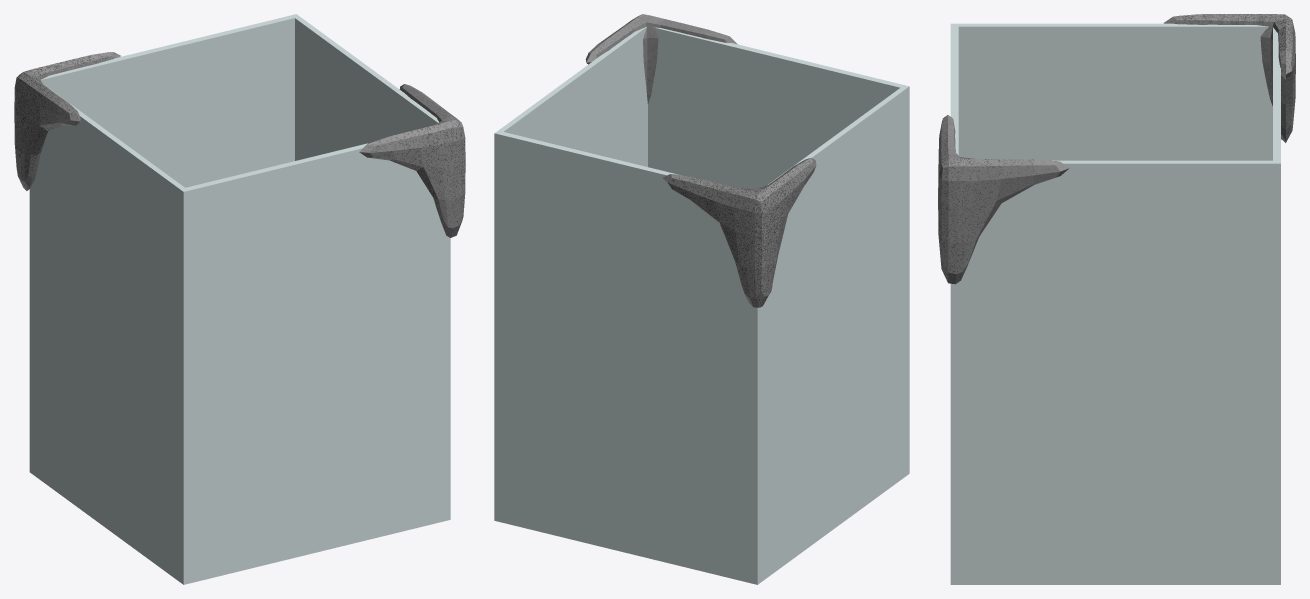
3 renders of one model, left to right at view 1: azimuth 30°, elevation 25°; view 2: azimuth 150°, elevation 25°; view 3: azimuth 270°, elevation 25°, orthographic. The views are drawn at different scales.
Parts seen in each view (by area): view 1: glass; view 2: glass; view 3: glass.
Boxes of the visible parts, x1,y1,x2,y2 form: glass: (14, 14, 465, 584); glass: (494, 14, 909, 584); glass: (938, 14, 1295, 584).
Bounding box in the file's own units: 437 × 578 × 443.
